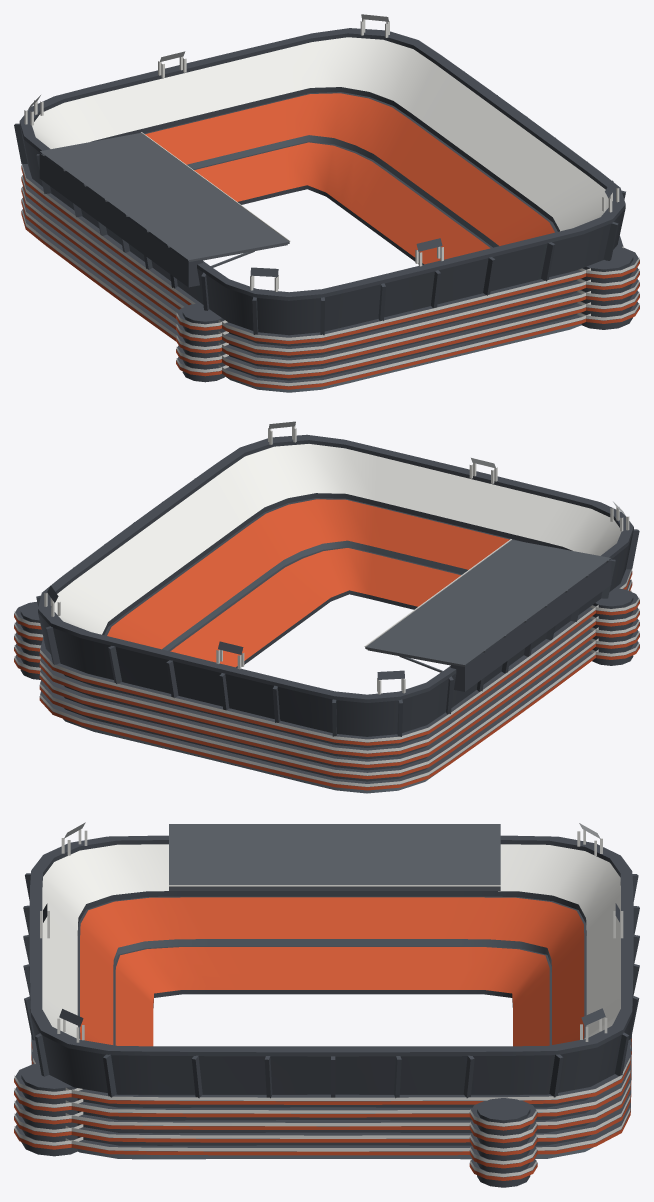
The model's file is valencia-mestalla.glb.
3 views of the same model, one above another, from view 1: azimuth 30°, elevation 25°; view 2: azimuth 150°, elevation 25°; view 3: azimuth 270°, elevation 25° (orthographic). The views are drawn at different scales.
Visible parts, largest first — view 1: Mestalla; view 2: Mestalla; view 3: Mestalla.
Boxes of the visible parts, x1,y1,x2,y2 form: Mestalla: (14,14,639,392); Mestalla: (14,421,639,793); Mestalla: (14,822,639,1187).
Bounding box in the file's own units: 195 × 48.5 × 202.
